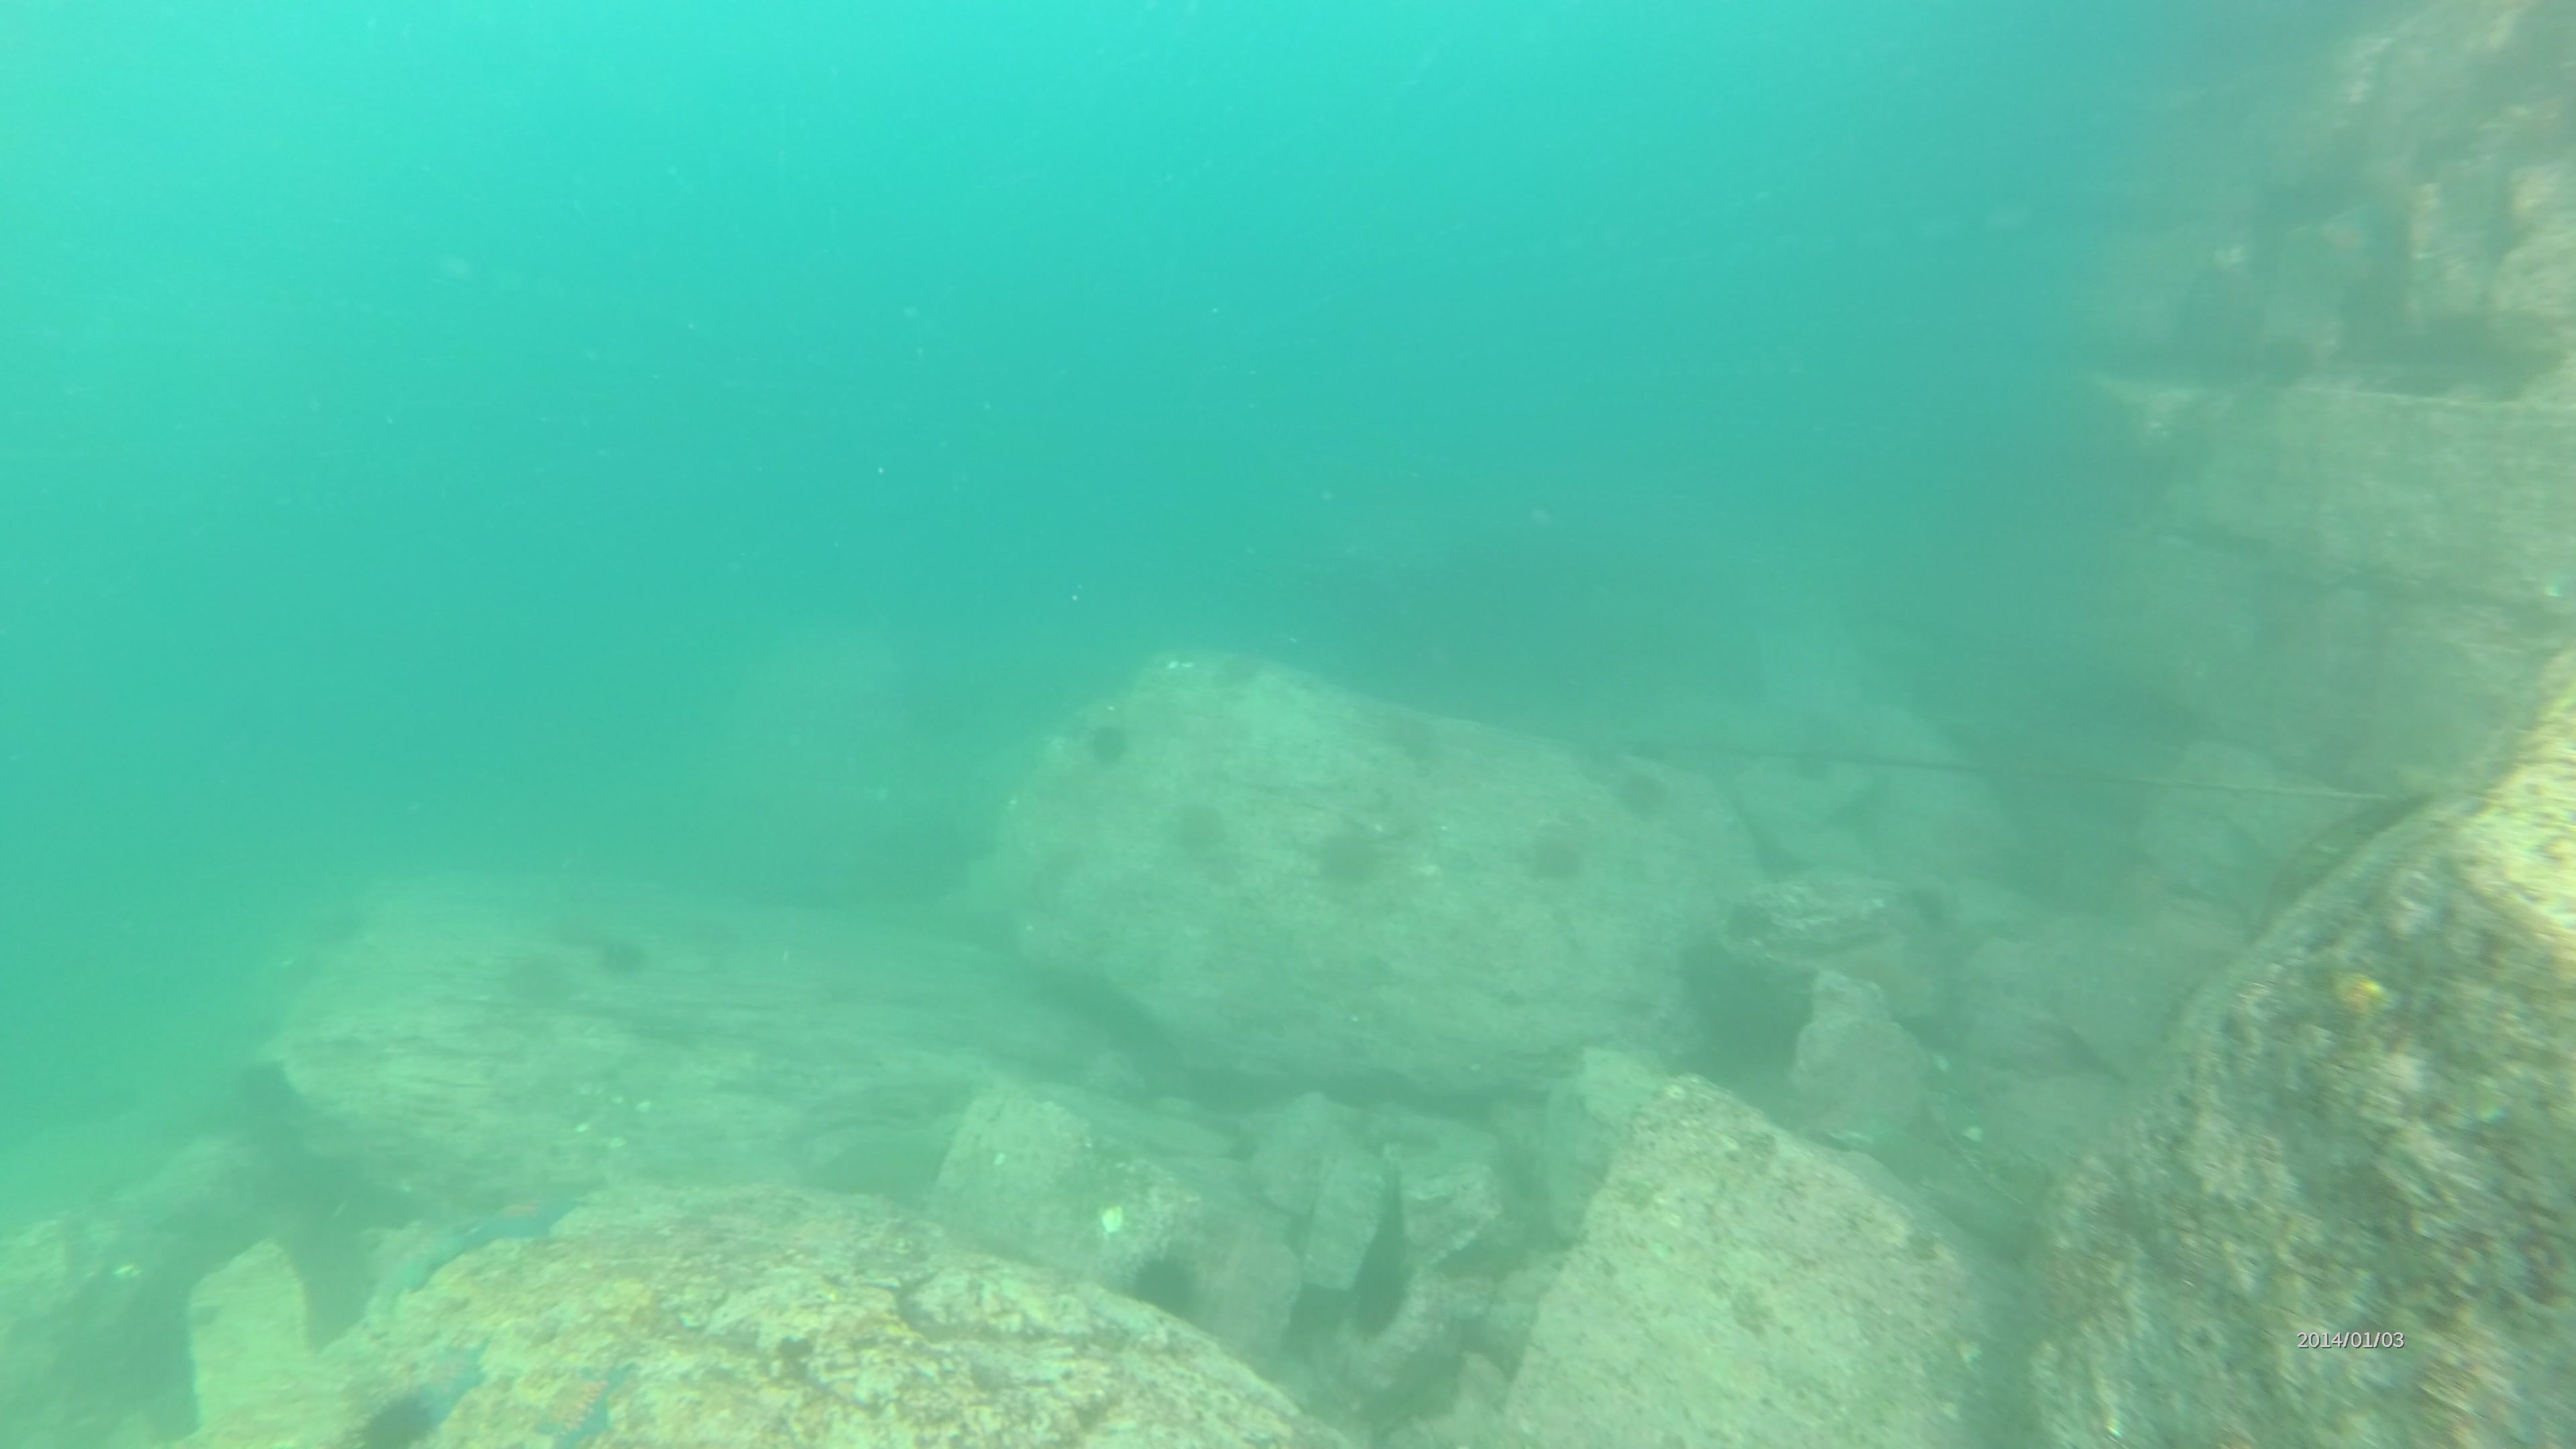echinus: (1318, 816, 1396, 895), (1516, 814, 1589, 890), (350, 1389, 441, 1449), (1384, 695, 1451, 770), (1164, 798, 1235, 860), (596, 924, 656, 989), (304, 895, 375, 948), (1079, 717, 1141, 777), (1897, 878, 1955, 939), (1355, 1265, 1414, 1327), (1129, 1254, 1187, 1316), (1621, 763, 1679, 823), (1714, 888, 1773, 948), (1787, 725, 1845, 786), (1219, 635, 1274, 699)
starfish: (462, 1185, 591, 1265), (531, 1362, 644, 1449), (368, 1217, 474, 1309), (403, 1341, 495, 1408)
